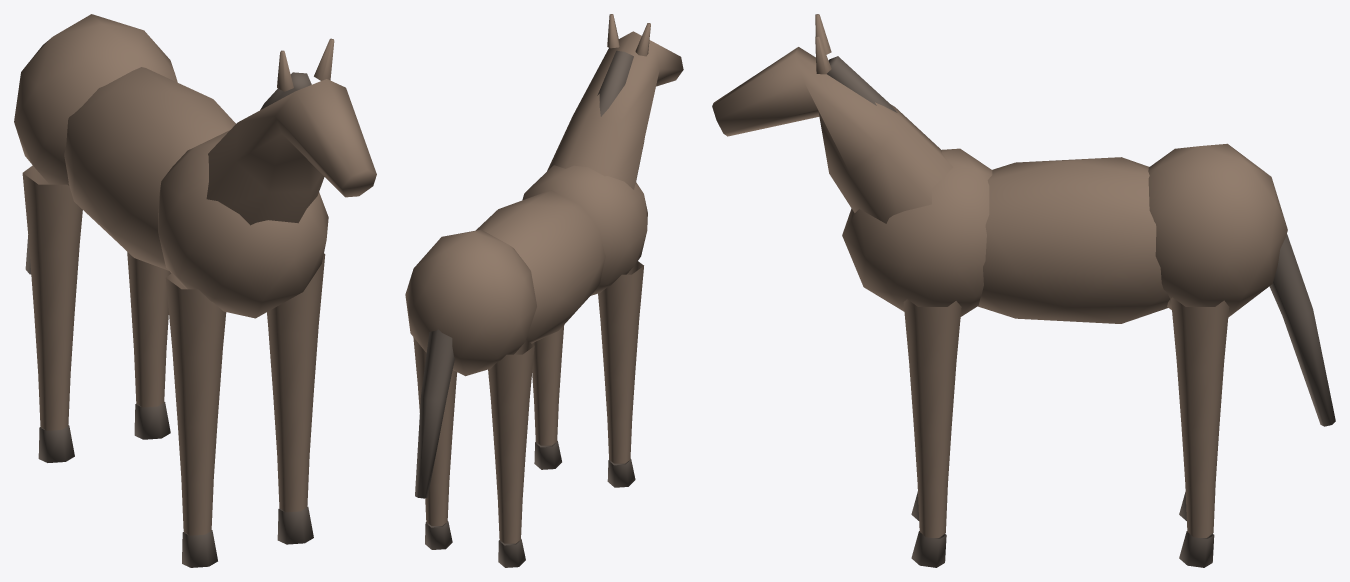
File: horse_2.glb
3 renders of one model, left to right at view 1: azimuth 30°, elevation 25°; view 2: azimuth 150°, elevation 25°; view 3: azimuth 270°, elevation 25°, orthographic. The views are drawn at different scales.
Parts seen in each view (by area): view 1: horse_2.glb; view 2: horse_2.glb; view 3: horse_2.glb.
Boxes of the visible parts, x1,y1,x2,y2 form: horse_2.glb: (14,14,376,567); horse_2.glb: (405,14,683,567); horse_2.glb: (712,14,1335,567).
Bounding box in the file's own units: 0.5305 × 1.87 × 2.05.
